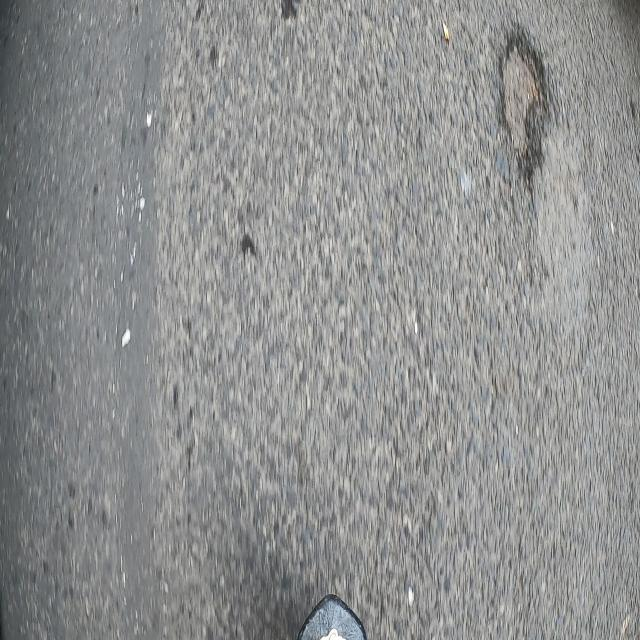Lubang: (500, 29, 548, 184)
